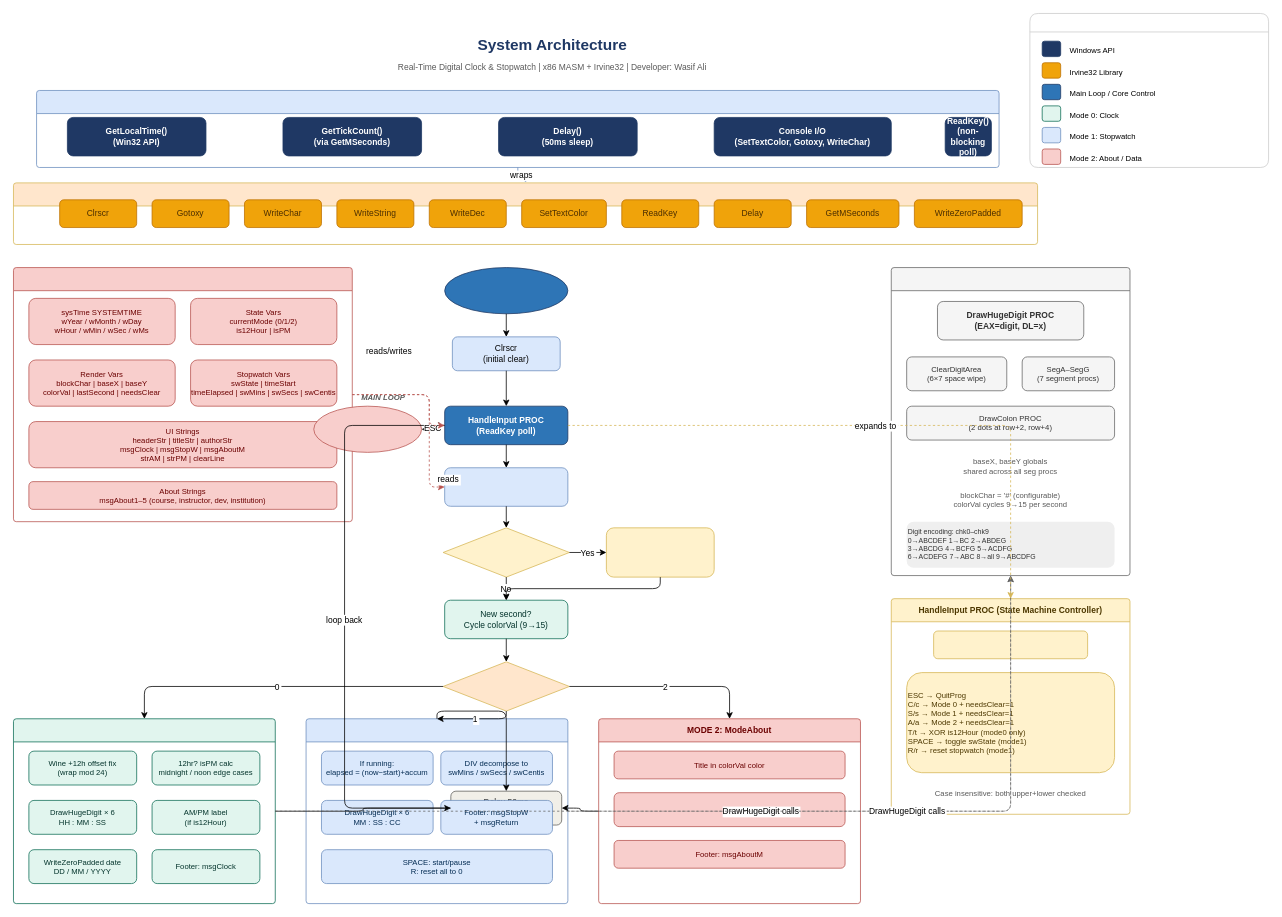
Image size: 1282x917. Some labels were removed from this diagram. Here are the shapes that lost their labels. From the top down, the box of each, then its label:
(1029, 13, 1269, 167): Legend
(36, 90, 999, 167): Windows API Layer
(13, 182, 1038, 244): Irvine32 Library Layer
(444, 267, 568, 314): Program Start (main PROC)
(13, 267, 352, 522): Data Segment (.data)
(313, 405, 422, 452): QuitProg SetTextColor + Clrscr exit
(891, 267, 1130, 576): 7-Segment Rendering Engine
(444, 467, 568, 506): INVOKE GetLocalTime → sysTime filled
(442, 527, 569, 577): needsClear = 1?
(606, 527, 714, 577): Clrscr DrawUIHeader needsClear = 0
(933, 630, 1088, 659): ReadKey → ZF check
(442, 661, 569, 711): currentMode?
(13, 718, 275, 904): MODE 0: ModeClock
(305, 718, 568, 904): MODE 1: ModeStopwatch
(613, 792, 845, 827): msgAbout1–5 Course / Instructor / Dev / Institution
